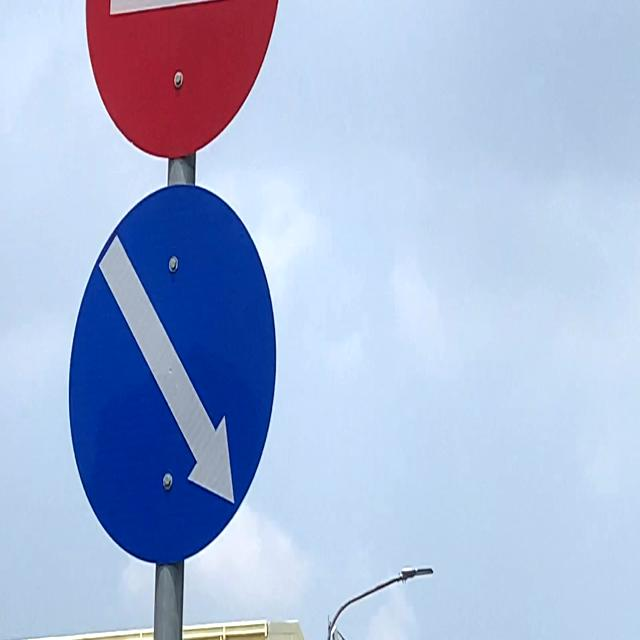R.302a: (61, 170, 285, 578)
